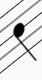B: (10, 5, 41, 64)
